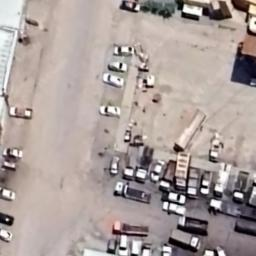pickup: (175, 215, 213, 231)
sedan: (6, 106, 35, 122), (0, 207, 20, 228), (0, 184, 19, 205), (0, 146, 28, 160), (117, 232, 131, 256), (162, 203, 188, 215), (159, 242, 177, 256), (0, 230, 16, 244), (215, 244, 232, 256), (140, 241, 152, 256)
truck: (165, 101, 206, 154), (207, 194, 256, 220), (112, 180, 154, 204), (169, 226, 206, 253), (120, 143, 140, 177), (108, 220, 150, 236), (136, 143, 152, 183), (160, 155, 174, 192), (198, 168, 214, 197)
unknown: (102, 74, 124, 90), (96, 105, 123, 117), (113, 44, 135, 57), (107, 61, 129, 73), (0, 160, 18, 173)
van: (108, 156, 122, 176), (123, 128, 133, 141)
